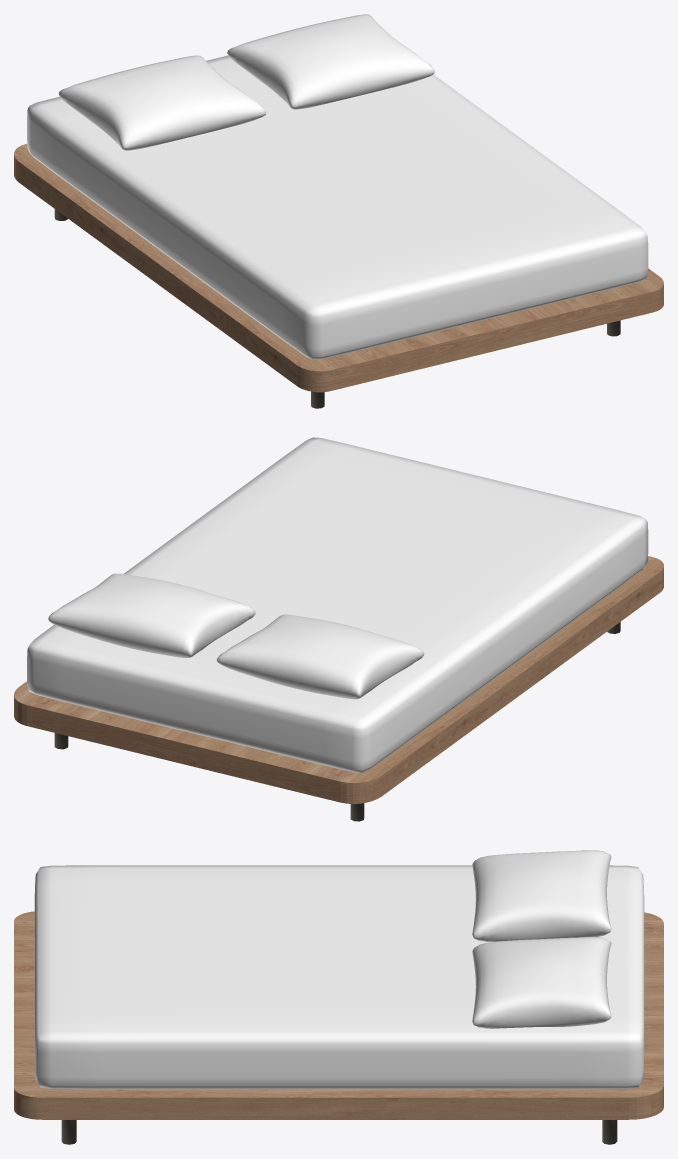
The model's file is SM_Bedroom_BedBig.fbx.
The picture shows the model from 3 angles, top to bottom: view 1: azimuth 30°, elevation 25°; view 2: azimuth 150°, elevation 25°; view 3: azimuth 270°, elevation 25°; orthographic projection. The views are drawn at different scales.
Parts seen in each view (by area): view 1: Bed; view 2: Bed; view 3: Bed.
Boxes of the visible parts, bbox=[...] form: Bed: bbox=[14, 14, 663, 408]; Bed: bbox=[14, 437, 663, 821]; Bed: bbox=[14, 850, 663, 1144].
Bounding box in the file's own units: 1.45 × 2.13 × 0.548.
